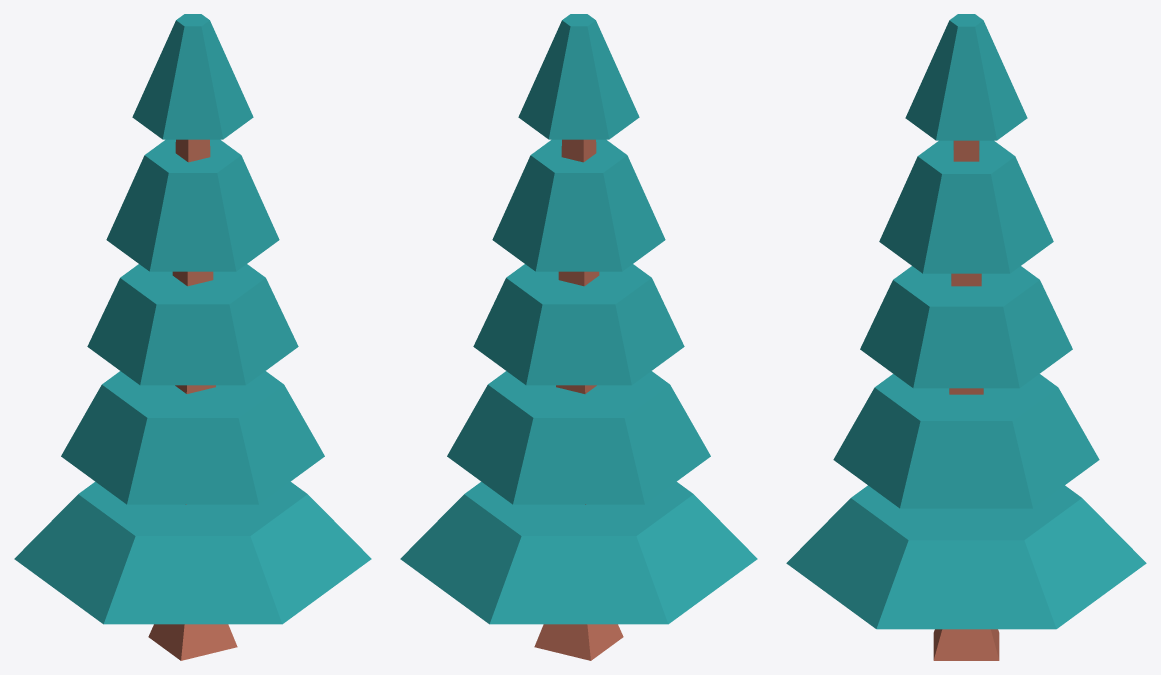
File: tree_pineRoundA.obj
3 renders of one model, left to right at view 1: azimuth 30°, elevation 25°; view 2: azimuth 150°, elevation 25°; view 3: azimuth 270°, elevation 25°, orthographic.
Parts seen in each view (by area): view 1: tree_pineRoundA; view 2: tree_pineRoundA; view 3: tree_pineRoundA.
Boxes of the visible parts, x1,y1,x2,y2 form: tree_pineRoundA: [14, 14, 371, 660]; tree_pineRoundA: [400, 14, 757, 660]; tree_pineRoundA: [786, 14, 1146, 660].
Size of the model in its own units: 0.617 by 1.37 by 0.7125.
